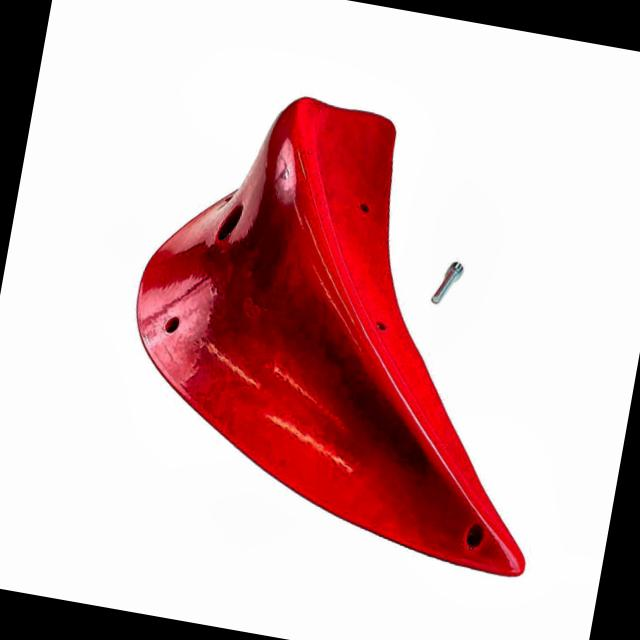Hold: (122, 95, 540, 589)
